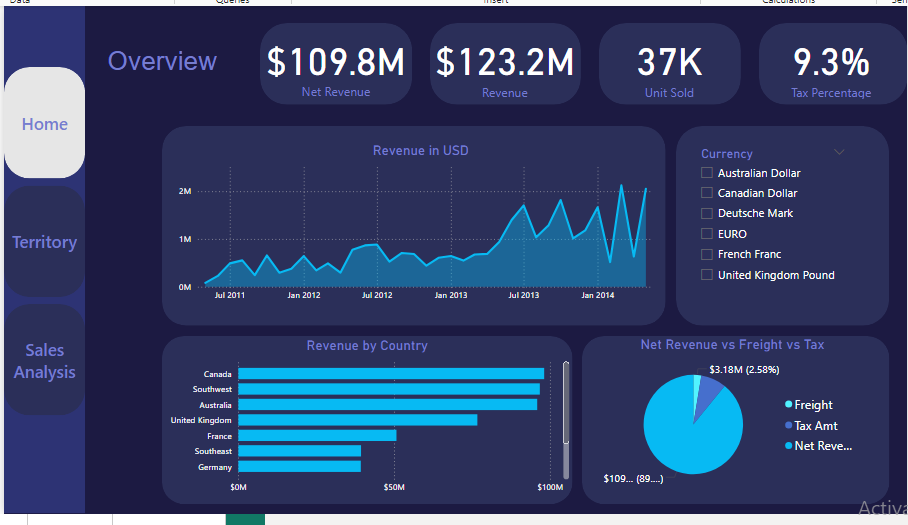

This screenshot's page, from the dashboard's own definition file:
{"tool":"powerbi","page":{"name":"Home","canvas":[1280,720],"ordinal":0},"visuals":[{"type":"shape","box":[0,0,115.1,719.2],"z":0},{"type":"shape","box":[1069.7,23.6,210.3,116],"z":1000},{"type":"shape","box":[362.6,23.6,215.7,116],"z":2000},{"type":"shape","box":[603.7,23.6,213.9,116],"z":3000},{"type":"shape","box":[843.1,23.6,201.2,116],"z":4000},{"type":"shape","box":[224.2,170.1,713.9,283],"z":5000},{"type":"shape","box":[952.4,170.1,302.1,283],"z":6000},{"type":"shape","box":[224.2,467.4,581.9,238.5],"z":7000},{"type":"shape","box":[818.8,467.4,435.6,238.5],"z":8000},{"type":"card","fields":{"Values":["Sum(FactOrders.SubTotal)"]},"box":[357.2,28.3,226.6,108.8],"z":9000},{"type":"pieChart","title":"Net Revenue vs Freight vs Tax","fields":{"Y":["Sum(FactOrders.Freight)","Sum(FactOrders.TaxAmt)","Sum(FactOrders.SubTotal)"]},"box":[842.7,467.4,378.4,229],"z":10000},{"type":"lineChart","title":"Revenue in USD ","fields":{"Y":["DimCurrency.Revenue Over Time in USD"],"Category":["DimCurrency.CurrencyRateDate.Variation.Date Hierarchy.Year","DimCurrency.CurrencyRateDate.Variation.Date Hierarchy.Month"]},"box":[241.7,192.4,696.4,235.3],"z":11000},{"type":"clusteredBarChart","title":"Revenue by Country","fields":{"Category":["DimTerritory.Territory"],"Y":["DimCurrency.Revenue by Country"]},"box":[224.2,469,581.9,230.5],"z":12000},{"type":"slicer","fields":{"Values":["DimCurrency.country"]},"box":[974.6,192.4,229,236.9],"z":13000},{"type":"card","fields":{"Values":["Sum(FactOrders.TotalDue)"]},"box":[600.1,22,221.2,121.5],"z":14000},{"type":"card","fields":{"Values":["Sum(FactOrders.OrderQty)"]},"box":[859.4,31,168.6,103.3],"z":15000},{"type":"card","fields":{"Values":["DimCurrency.Tax Percentage"]},"box":[1089.6,29.2,165,107],"z":16000},{"type":"pageNavigator","box":[0,86.8,115.1,496.4],"z":17000},{"type":"textbox","box":[141.4,50.8,199.4,103.3],"z":18000}]}

Visuals, with their boxes on the page's 1280x720 design canvas (x1, y1, x2, y2). These are canvas units, not pixel positions in the 908x525 screenshot, which may show the page scaled, cropped or inside an application window:
shape: left=0, top=0, right=115, bottom=719
shape: left=1070, top=24, right=1280, bottom=140
shape: left=363, top=24, right=578, bottom=140
shape: left=604, top=24, right=818, bottom=140
shape: left=843, top=24, right=1044, bottom=140
shape: left=224, top=170, right=938, bottom=453
shape: left=952, top=170, right=1254, bottom=453
shape: left=224, top=467, right=806, bottom=706
shape: left=819, top=467, right=1254, bottom=706
card - Sum(FactOrders.SubTotal): left=357, top=28, right=584, bottom=137
"Net Revenue vs Freight vs Tax" pieChart: left=843, top=467, right=1221, bottom=696
"Revenue in USD " lineChart: left=242, top=192, right=938, bottom=428
"Revenue by Country" clusteredBarChart: left=224, top=469, right=806, bottom=700
slicer - DimCurrency.country: left=975, top=192, right=1204, bottom=429
card - Sum(FactOrders.TotalDue): left=600, top=22, right=821, bottom=144
card - Sum(FactOrders.OrderQty): left=859, top=31, right=1028, bottom=134
card - DimCurrency.Tax Percentage: left=1090, top=29, right=1255, bottom=136
pageNavigator: left=0, top=87, right=115, bottom=583
textbox: left=141, top=51, right=341, bottom=154
